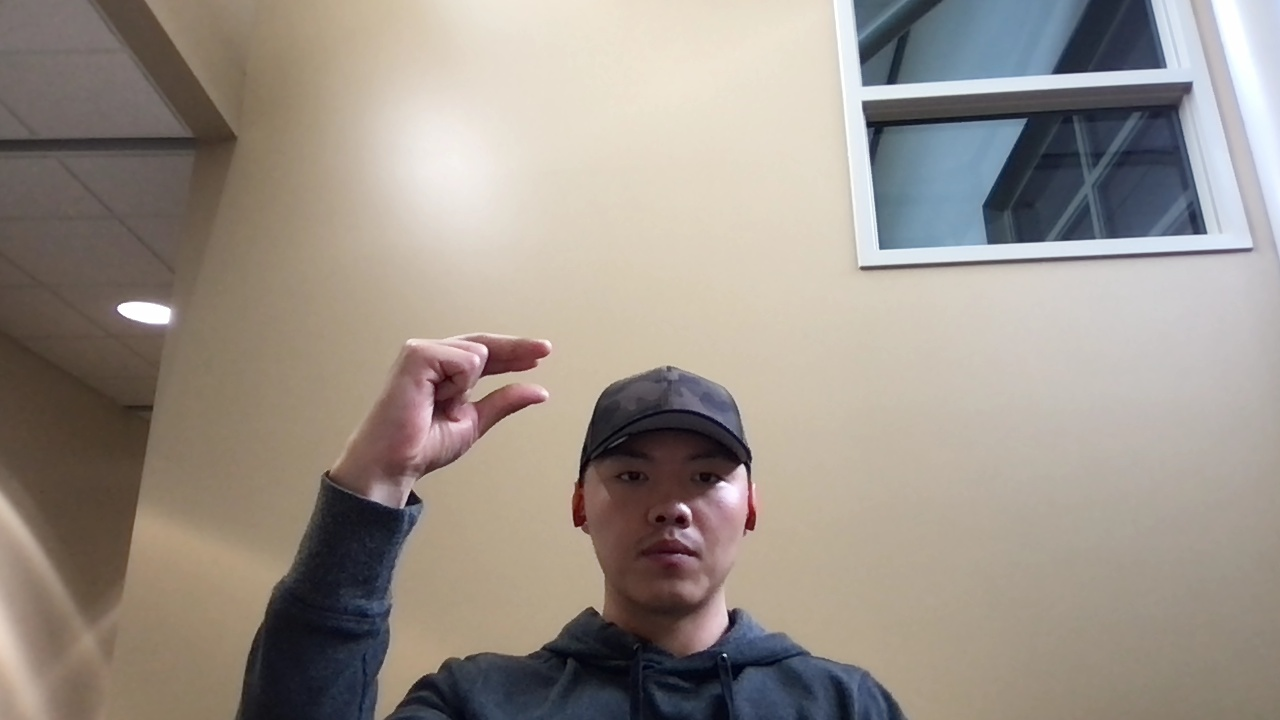No: (346, 330, 552, 493)
